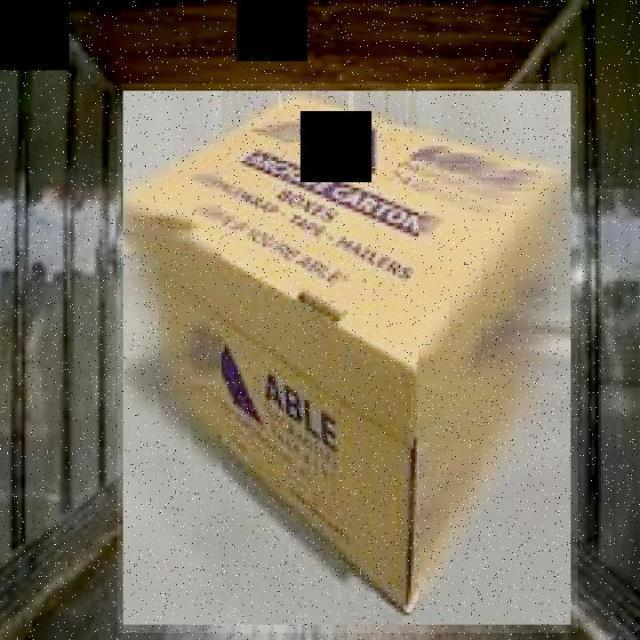box: (117, 84, 578, 634)
